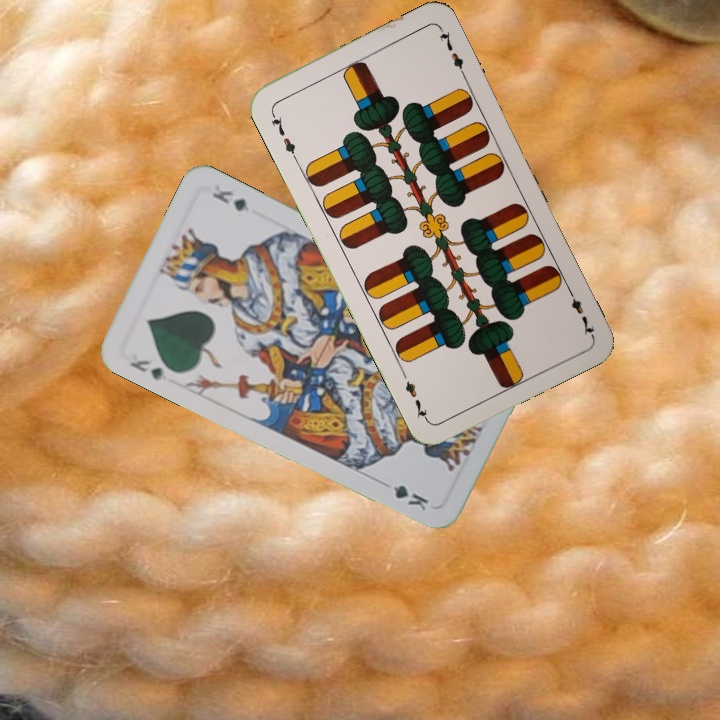E7: (563, 283, 597, 339), (267, 107, 300, 163)
GK: (125, 355, 171, 384)
